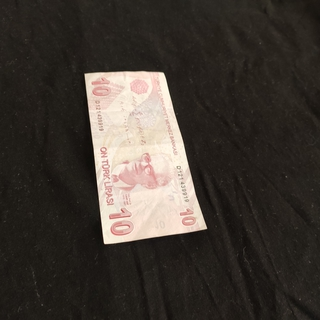10TLBack: (83, 70, 209, 245)
